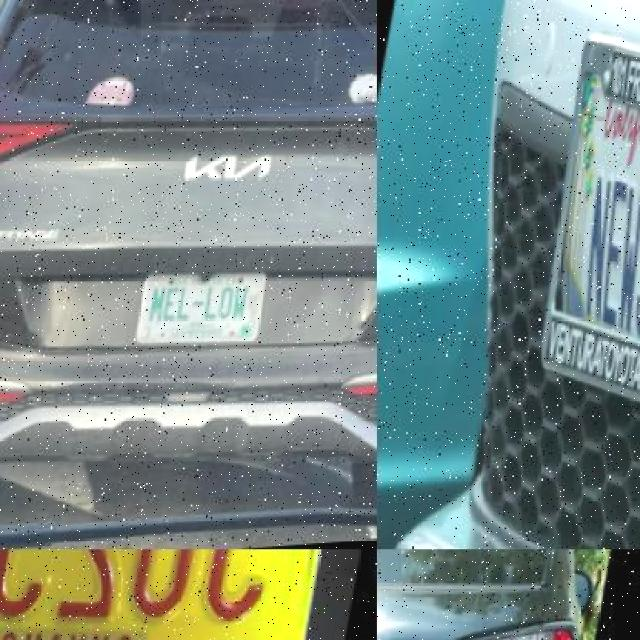licenseplate: (524, 32, 640, 432), (0, 549, 337, 640), (143, 278, 277, 349)
